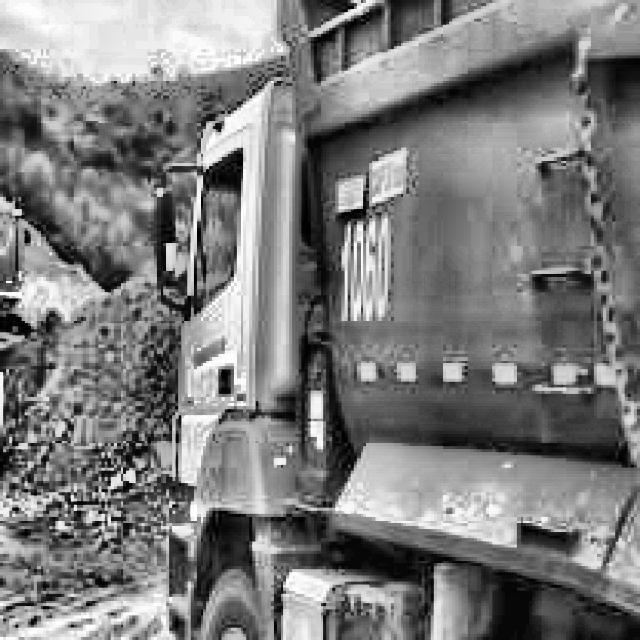dump_truck: (151, 0, 640, 640)
excavator: (0, 185, 28, 492)
